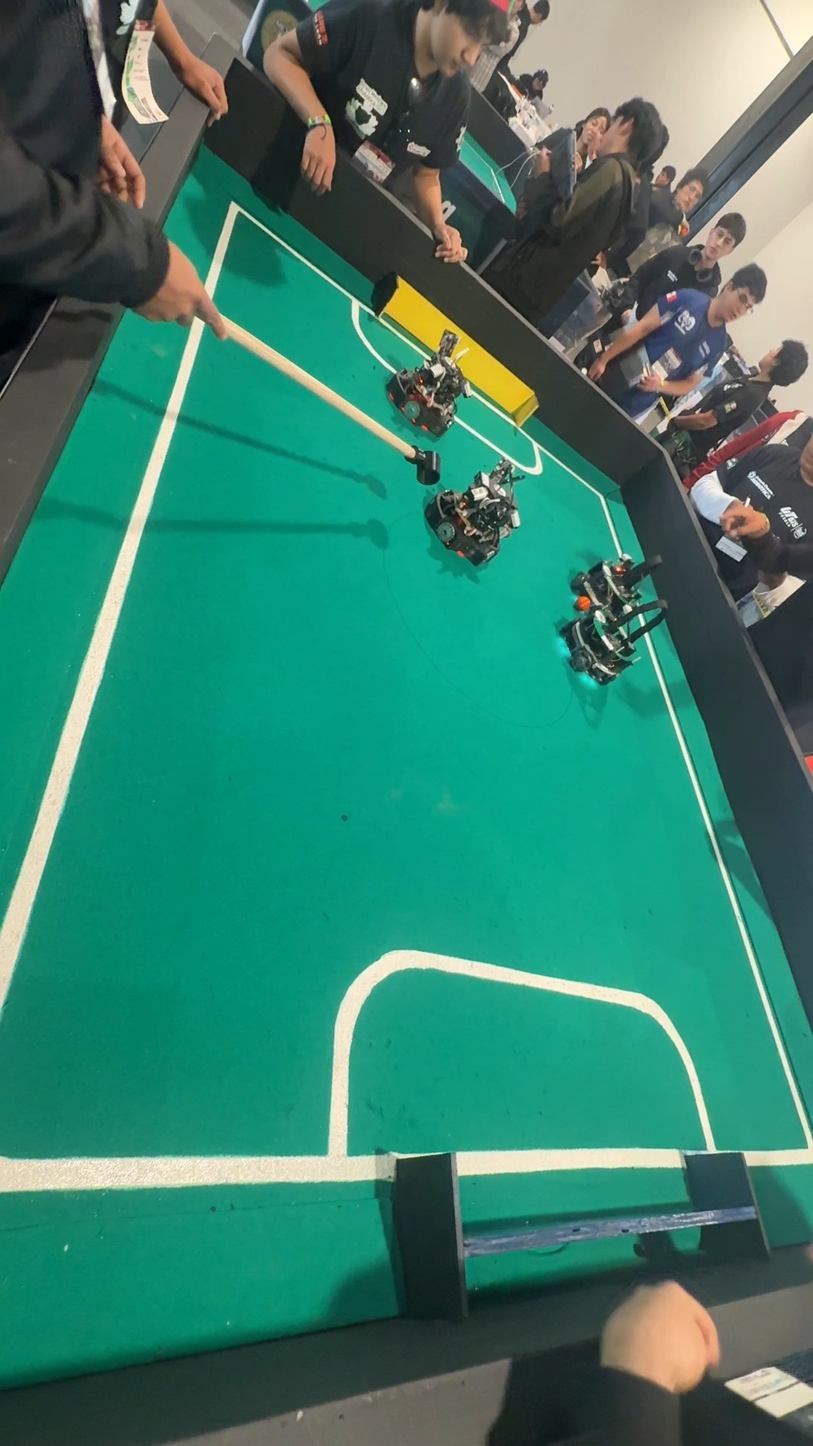Robot: (421, 441, 522, 575), (382, 313, 472, 441), (565, 599, 670, 688), (569, 547, 665, 598)
pelota: (576, 596, 590, 610)
